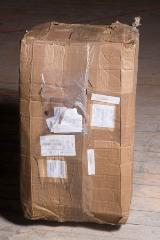paper: (19, 20, 140, 225), (46, 106, 82, 134), (37, 158, 67, 184), (39, 134, 75, 155), (90, 103, 116, 127), (46, 160, 66, 178), (90, 94, 120, 104), (87, 150, 95, 175)
